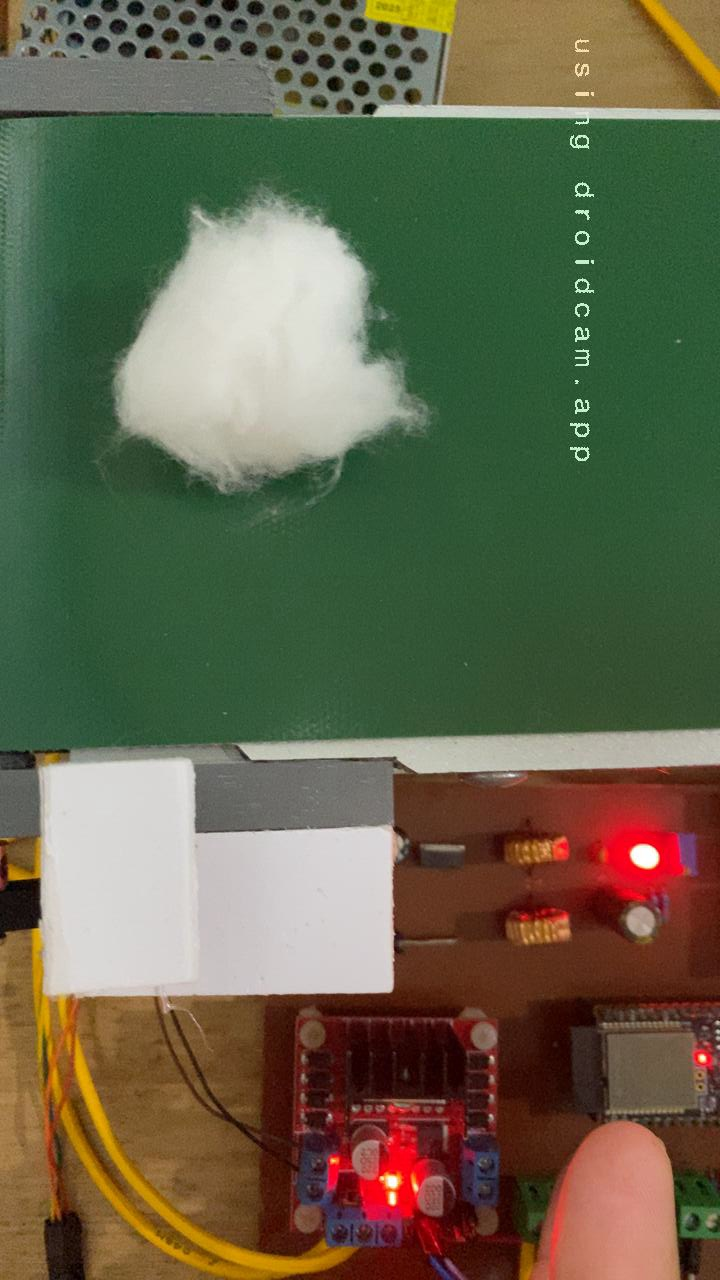cotton: (109, 193, 427, 499)
